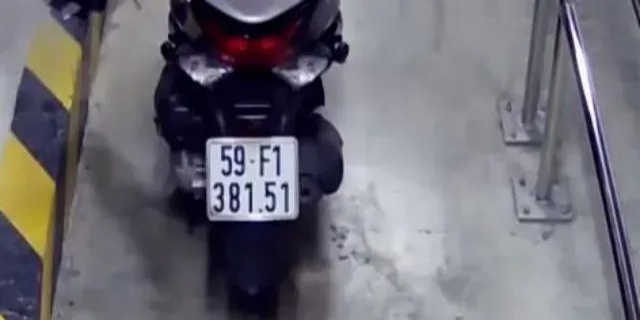bien_so: (209, 138, 299, 218)
